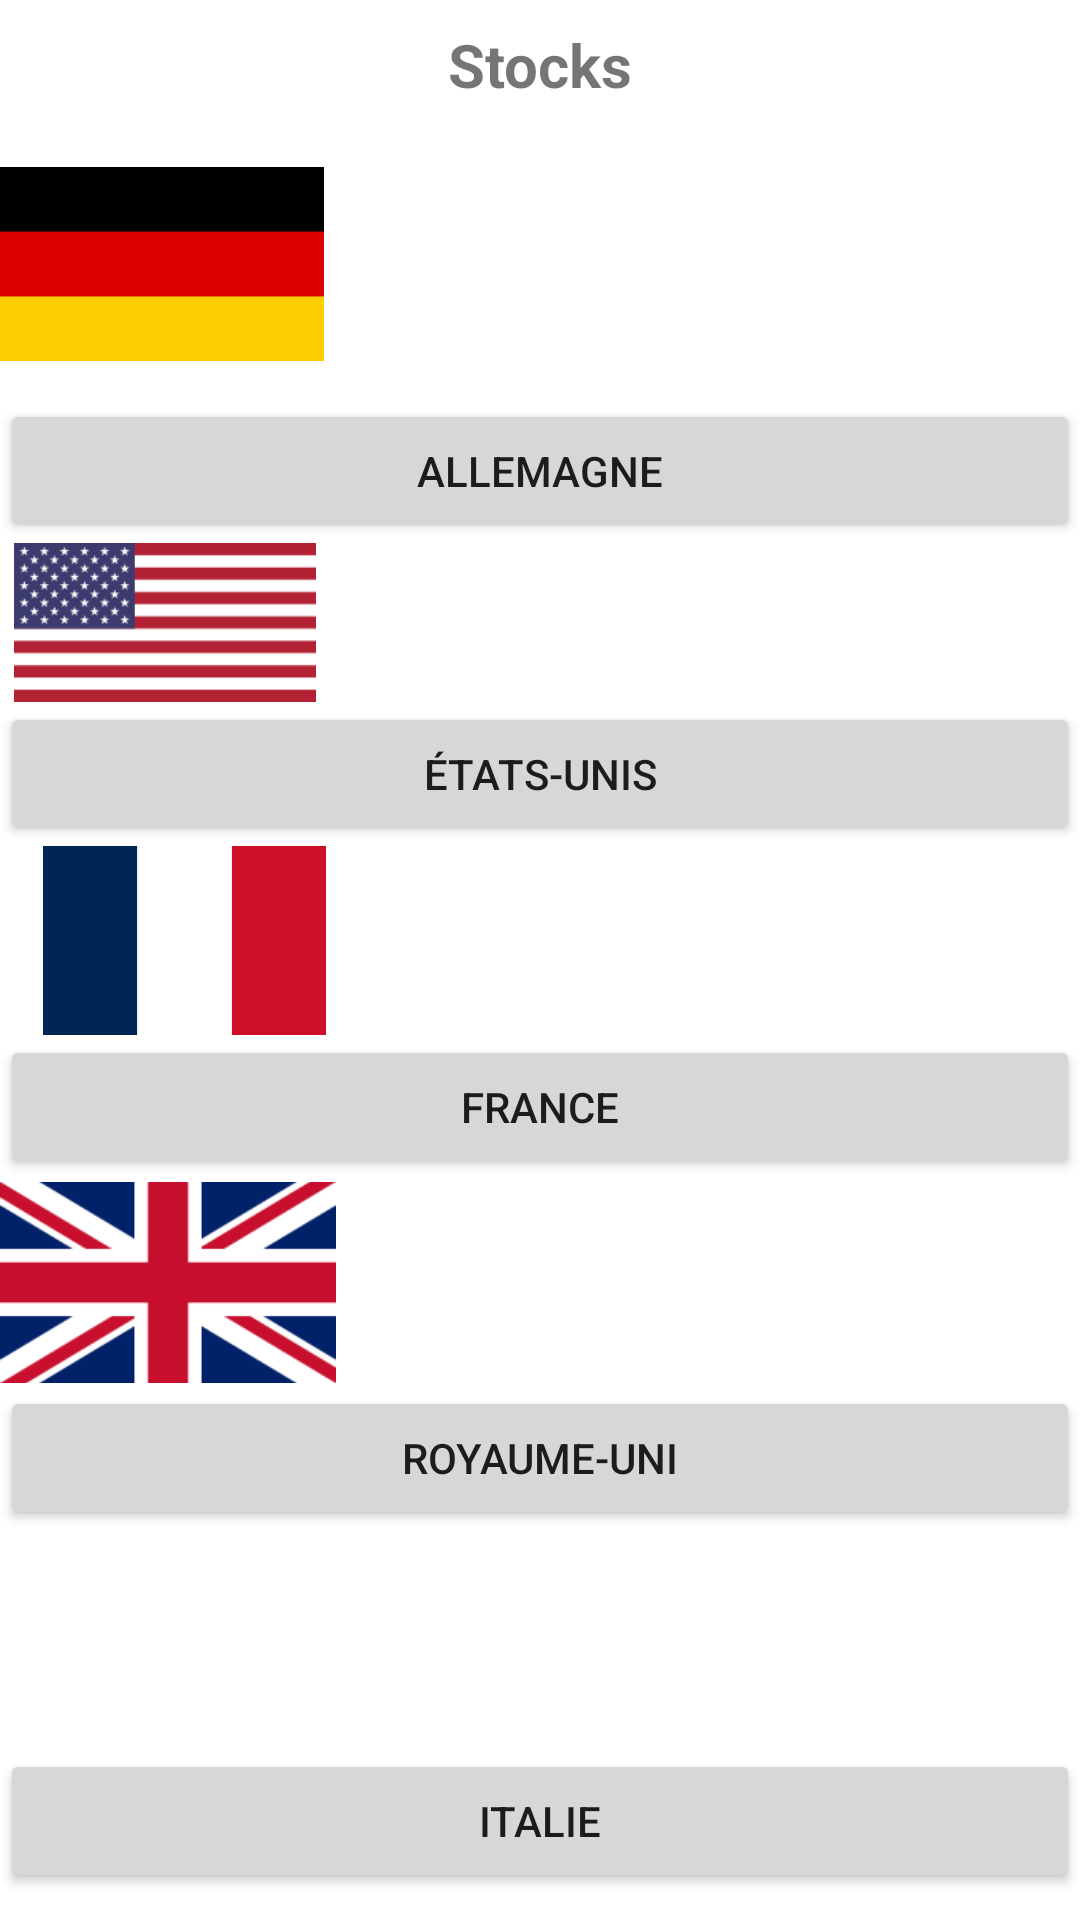

Screen size 1080w x 1920h. Icon name, then its center in pixels as [x,y]:
etats unis: [165,622]
